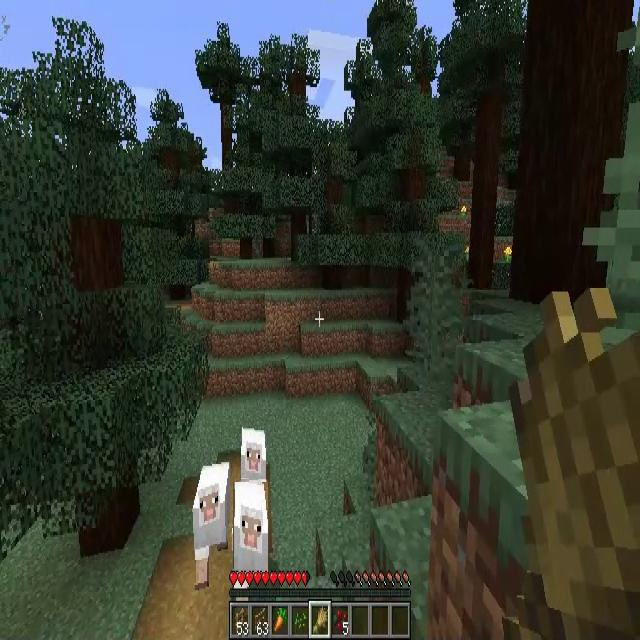sheep: (193, 461, 229, 586), (233, 482, 268, 572), (241, 426, 266, 479)
